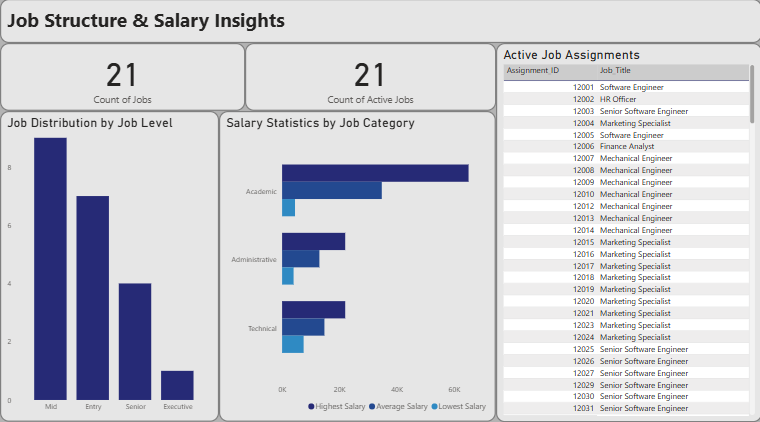

This screenshot's page, from the dashboard's own definition file:
{"tool":"powerbi","page":{"name":"Job Structure & Salary Insights","canvas":[1280,720],"ordinal":1},"visuals":[{"type":"card","title":"Sum of Employees","fields":{"Values":["CountNonNull(vw_jobs_base.Job_ID)"]},"box":[0,84,411.5,114.2],"z":0},{"type":"card","fields":{"Values":["Count(view_activejobassignments.Job_Title)"]},"box":[411.5,84,421.6,114.2],"z":1000},{"type":"actionButton","box":[0,0,100,40],"z":2000},{"type":"columnChart","fields":{"Category":["view_jobsbylevel.Job_Level"],"Y":["CountNonNull(view_jobsbylevel.Job_Level)"]},"box":[0,198.2,367.9,522.4],"z":3000},{"type":"clusteredBarChart","title":"Salary Statistics by Job Category","fields":{"Category":["view_salarystatsbycategory.Job_Category"],"Y":["Max(view_salarystatsbycategory.Highest_Salary)","Avg(view_salarystatsbycategory.Average_Salary_Band)","Min(view_salarystatsbycategory.Lowest_Salary)"]},"box":[367.9,198.2,465.3,522.4],"z":4000},{"type":"tableEx","title":"Active Job Assignments","fields":{"Values":["view_activejobassignments.Assignment_ID","view_activejobassignments.Job_Title"]},"box":[833.2,84,446.8,636.6],"z":5000},{"type":"textbox","box":[0,10.1,1280,73.9],"z":6000}]}

Visuals, with their boxes in screenshot pixels (x1, y1, x2, y2), scaled from the page's 1280x720 canvas onto the 760x422 screenshot:
"Sum of Employees" card: region(0, 49, 244, 116)
card - Count(view_activejobassignments.Job_Title): region(244, 49, 495, 116)
actionButton: region(0, 0, 59, 23)
columnChart - view_jobsbylevel.Job_Level x CountNonNull(view_jobsbylevel.Job_Level): region(0, 116, 218, 421)
"Salary Statistics by Job Category" clusteredBarChart: region(218, 116, 495, 421)
"Active Job Assignments" tableEx: region(495, 49, 759, 421)
textbox: region(0, 6, 759, 49)
